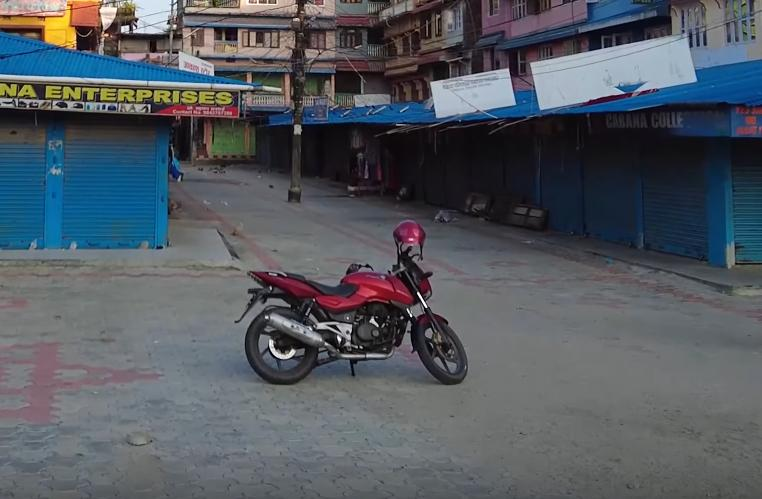bike: (226, 234, 476, 389)
